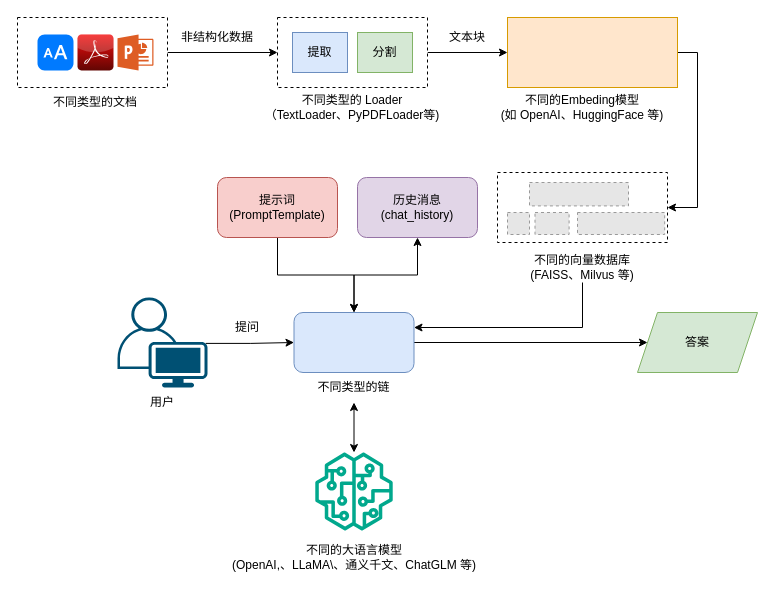
The diagram is 775 pixels wide and 590 high, and some of its shapes have lost their labels. Grey dashed boxes stand in for pictures. The shapes that lost their labels are listed below. From the top down, each one's box as (x1, y1, x2, y2) in pixels, then its label:
(506, 16, 678, 88): 文本块的向量表示 (Word2Vec、GPT、BERT 等)
(293, 312, 414, 372): Chains
